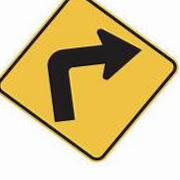right: (1, 1, 176, 160)
